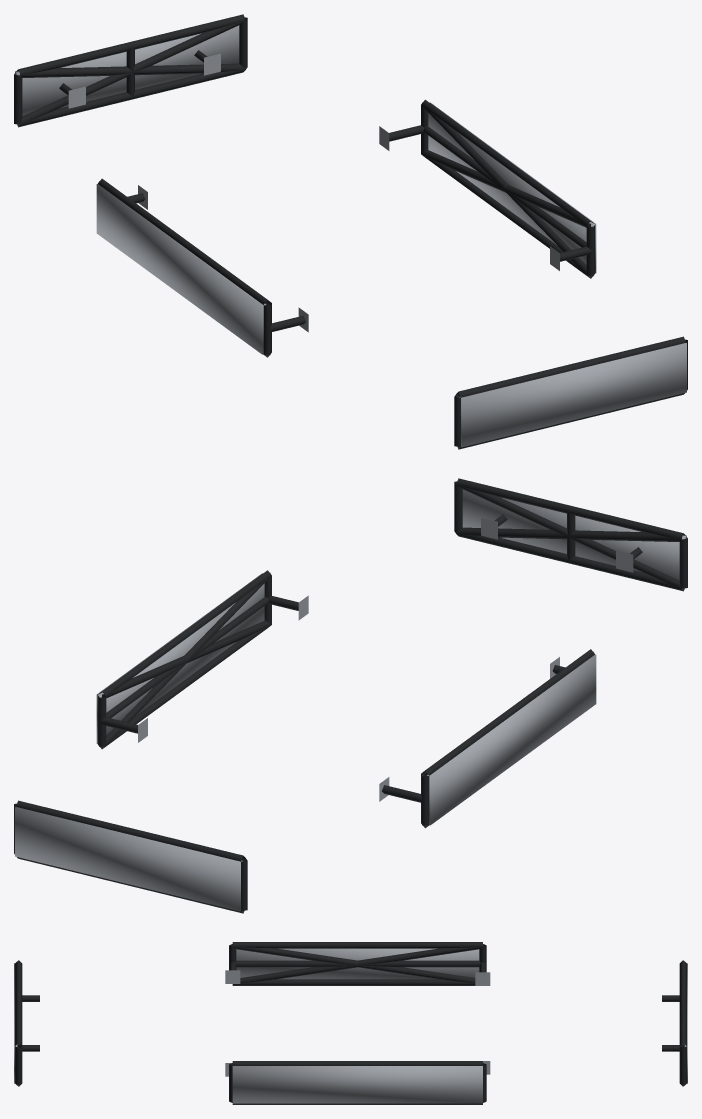
File: hayase_barranco_protecao.glb
The picture shows the model from 3 angles, top to bottom: view 1: azimuth 30°, elevation 25°; view 2: azimuth 150°, elevation 25°; view 3: azimuth 270°, elevation 25°; orthographic projection. The views are drawn at different scales.
Parts seen in each view (by area): view 1: Protection_front_Level3_Details, Protection_left_Level3_Details, Protection_rear_Level1_Details, Protection_rear_Level3_Details, Protection_right_Level1_Details, Protection_right_Level2_Details, Protection_rear_Level2_Details, Protection_right_Level3_Details, Protection_left_Level1_Details, Protection_front_Level1_Details; view 2: Protection_rear_Level3_Details, Protection_left_Level3_Details, Protection_front_Level1_Details, Protection_front_Level3_Details, Protection_right_Level1_Details, Protection_right_Level2_Details, Protection_front_Level2_Details, Protection_right_Level3_Details, Protection_left_Level1_Details, Protection_rear_Level1_Details; view 3: Protection_right_Level3_Details, Protection_left_Level2_Details, Protection_left_Level3_Details, Protection_left_Level1_Details, Protection_right_Level1_Details, Protection_rear_Level1_Details, Protection_front_Level1_Details.
Boxes of the visible parts, bbox=[...] form: Protection_front_Level3_Details: bbox=[459, 343, 686, 447]; Protection_left_Level3_Details: bbox=[96, 184, 266, 354]; Protection_rear_Level1_Details: bbox=[14, 14, 247, 127]; Protection_rear_Level3_Details: bbox=[15, 25, 239, 116]; Protection_right_Level1_Details: bbox=[379, 99, 595, 278]; Protection_right_Level2_Details: bbox=[421, 105, 594, 278]; Protection_rear_Level2_Details: bbox=[16, 20, 245, 126]; Protection_right_Level3_Details: bbox=[428, 102, 596, 273]; Protection_left_Level1_Details: bbox=[98, 178, 308, 357]; Protection_front_Level1_Details: bbox=[454, 336, 687, 449]; Protection_rear_Level3_Details: bbox=[15, 807, 242, 911]; Protection_left_Level3_Details: bbox=[426, 654, 596, 825]; Protection_front_Level1_Details: bbox=[454, 478, 687, 591]; Protection_front_Level3_Details: bbox=[462, 489, 686, 580]; Protection_right_Level1_Details: bbox=[97, 570, 308, 749]; Protection_right_Level2_Details: bbox=[99, 576, 271, 748]; Protection_front_Level2_Details: bbox=[456, 484, 685, 590]; Protection_right_Level3_Details: bbox=[96, 573, 264, 743]; Protection_left_Level1_Details: bbox=[379, 649, 594, 828]; Protection_rear_Level1_Details: bbox=[14, 800, 247, 913]; Protection_right_Level3_Details: bbox=[232, 1066, 482, 1103]; Protection_left_Level2_Details: bbox=[232, 946, 483, 983]; Protection_left_Level3_Details: bbox=[236, 948, 479, 979]; Protection_left_Level1_Details: bbox=[225, 942, 490, 985]; Protection_right_Level1_Details: bbox=[225, 1061, 490, 1104]; Protection_rear_Level1_Details: bbox=[662, 960, 686, 1086]; Protection_front_Level1_Details: bbox=[15, 960, 39, 1086].
Bounding box in the file's own units: 2.13 × 0.354 × 4.93.
1 material, 1 textured.
